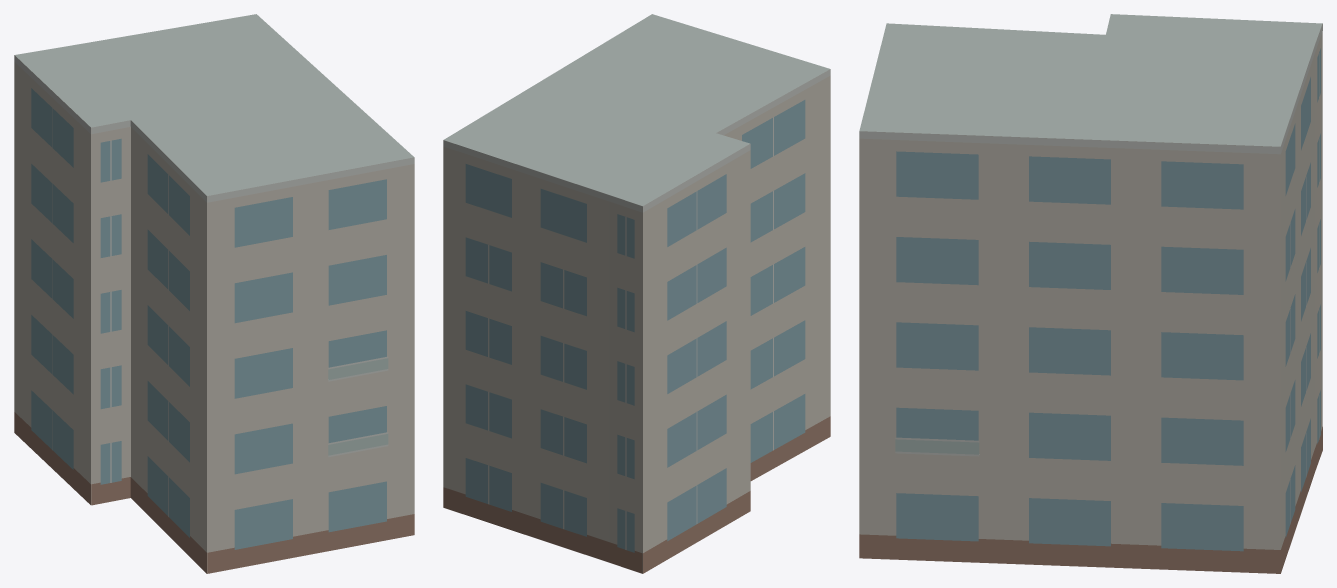
File: survey-upis-32971967.glb
3 views of the same model, side by side, from view 1: azimuth 30°, elevation 25°; view 2: azimuth 150°, elevation 25°; view 3: azimuth 270°, elevation 25° (orthographic). The views are drawn at different scales.
Parts seen in each view (by area): view 1: survey-upis-32971967.tmp; view 2: survey-upis-32971967.tmp; view 3: survey-upis-32971967.tmp.
Part boxes in pixels (<box>): survey-upis-32971967.tmp: <box>14,14,414,573</box>; survey-upis-32971967.tmp: <box>443,14,830,573</box>; survey-upis-32971967.tmp: <box>859,14,1322,573</box>.
Size of the model in its own units: 9.26 by 13.88 by 13.66.
